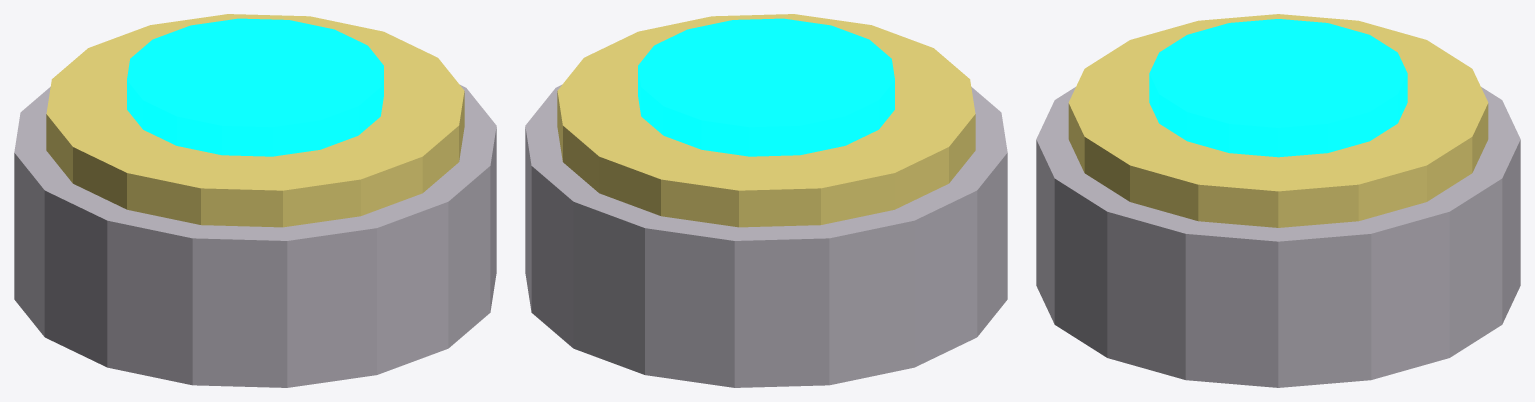
The model's file is switch_pedestal.glb.
3 views of the same model, side by side, from view 1: azimuth 30°, elevation 25°; view 2: azimuth 150°, elevation 25°; view 3: azimuth 270°, elevation 25° (orthographic).
Visible parts, largest first — view 1: PedestalBase, PedestalTrim, PedestalButton; view 2: PedestalBase, PedestalTrim, PedestalButton; view 3: PedestalBase, PedestalTrim, PedestalButton.
Boxes of the visible parts, <box> form: PedestalBase: <box>14,85,496,387</box>; PedestalTrim: <box>46,14,464,227</box>; PedestalButton: <box>127,18,383,156</box>; PedestalBase: <box>525,85,1007,387</box>; PedestalTrim: <box>557,14,975,227</box>; PedestalButton: <box>638,18,894,156</box>; PedestalBase: <box>1036,87,1520,387</box>; PedestalTrim: <box>1068,14,1488,227</box>; PedestalButton: <box>1149,19,1407,157</box>.
Bounding box in the file's own units: 1.2 × 0.58 × 1.2.
